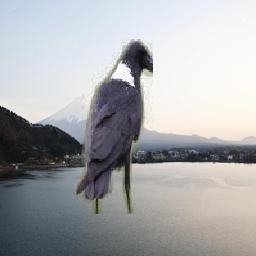Crow: (75, 40, 154, 215)
